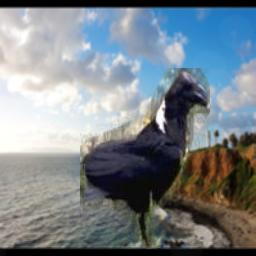Crow: (80, 68, 210, 248)
